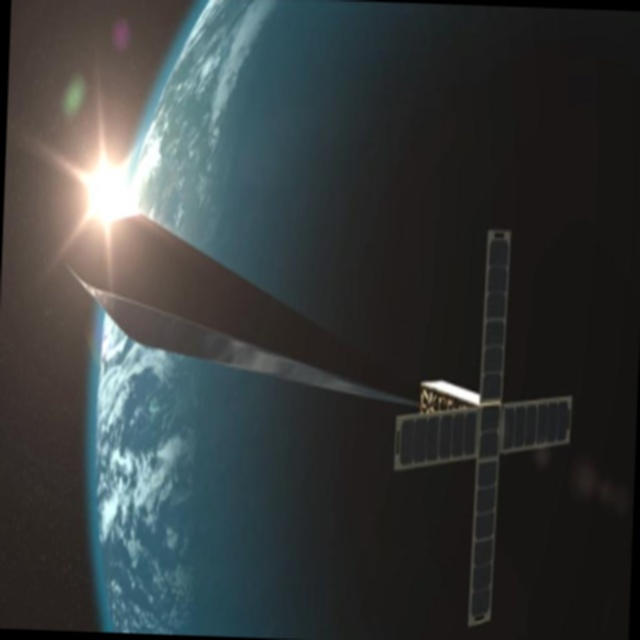satellite: (29, 124, 594, 640)
